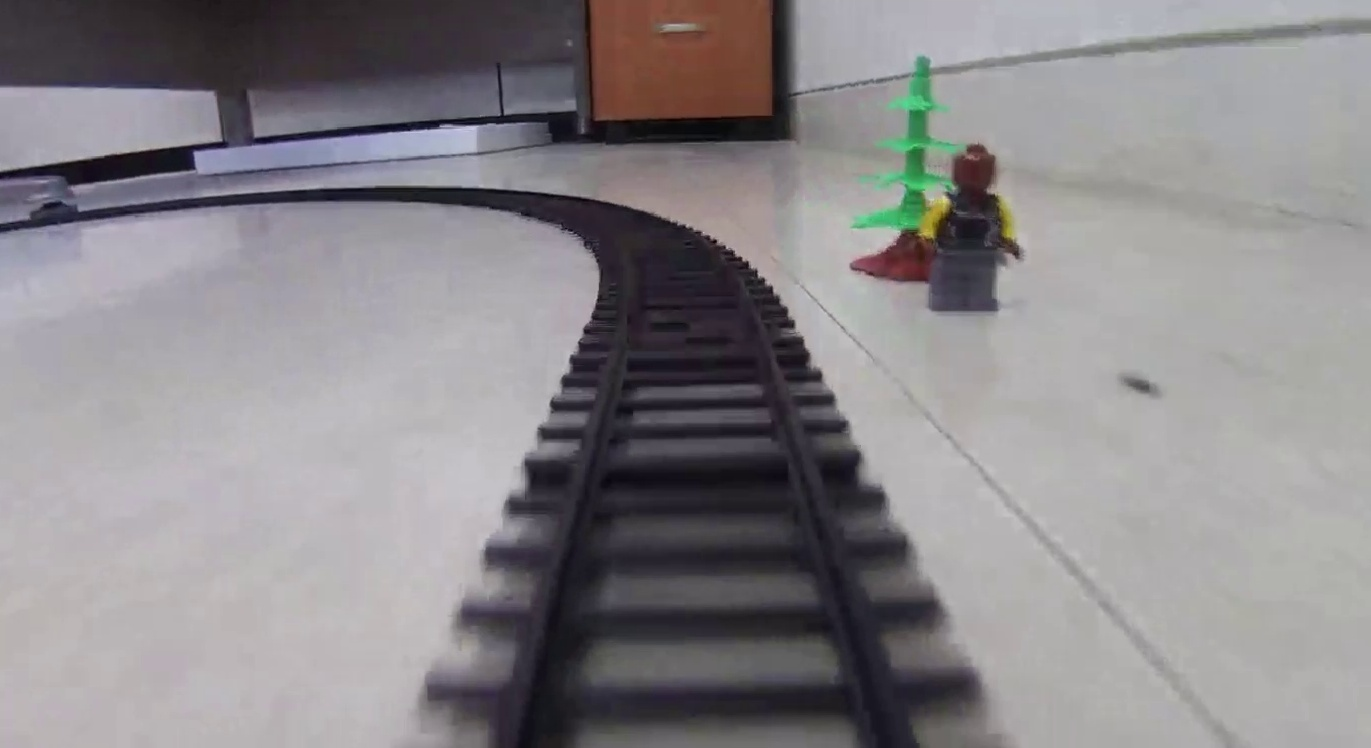people: (922, 143, 1013, 314)
tree: (850, 53, 964, 288)
